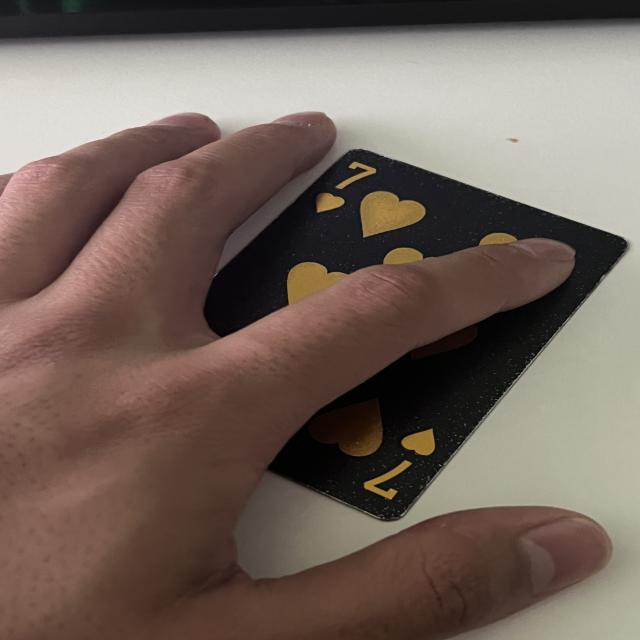7H: (348, 426, 453, 507), (313, 152, 383, 224)
